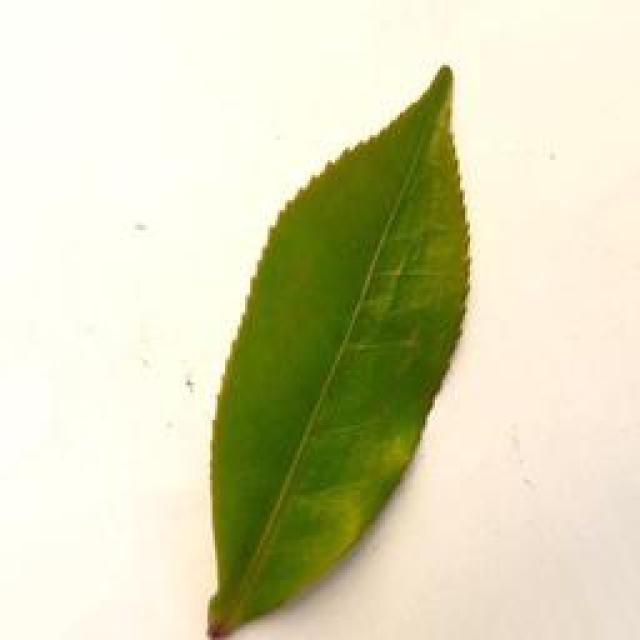Healthy: (195, 60, 482, 640)
